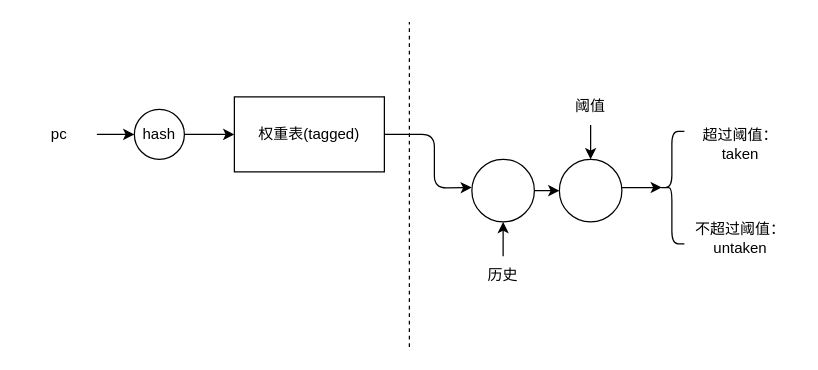
This 818x370 diagram has some shape labels left out. Each missing label, with the centre of its shape:
比较: pixel 590 190
点积: pixel 502 190
